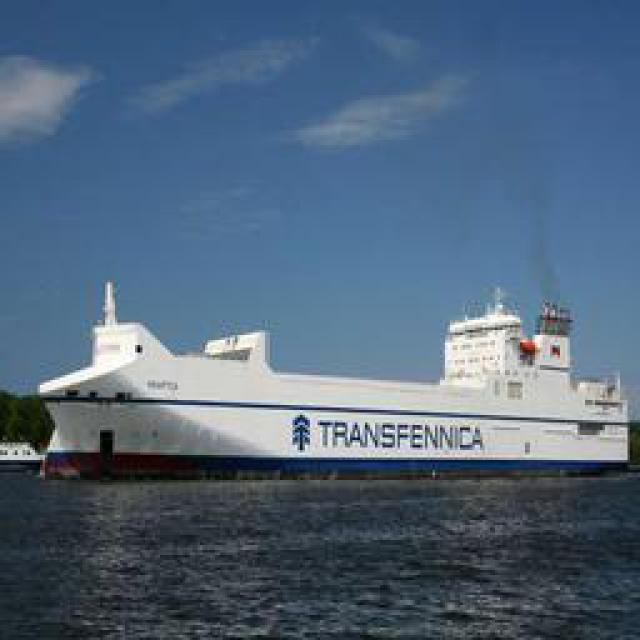Ship: (35, 285, 633, 475)
